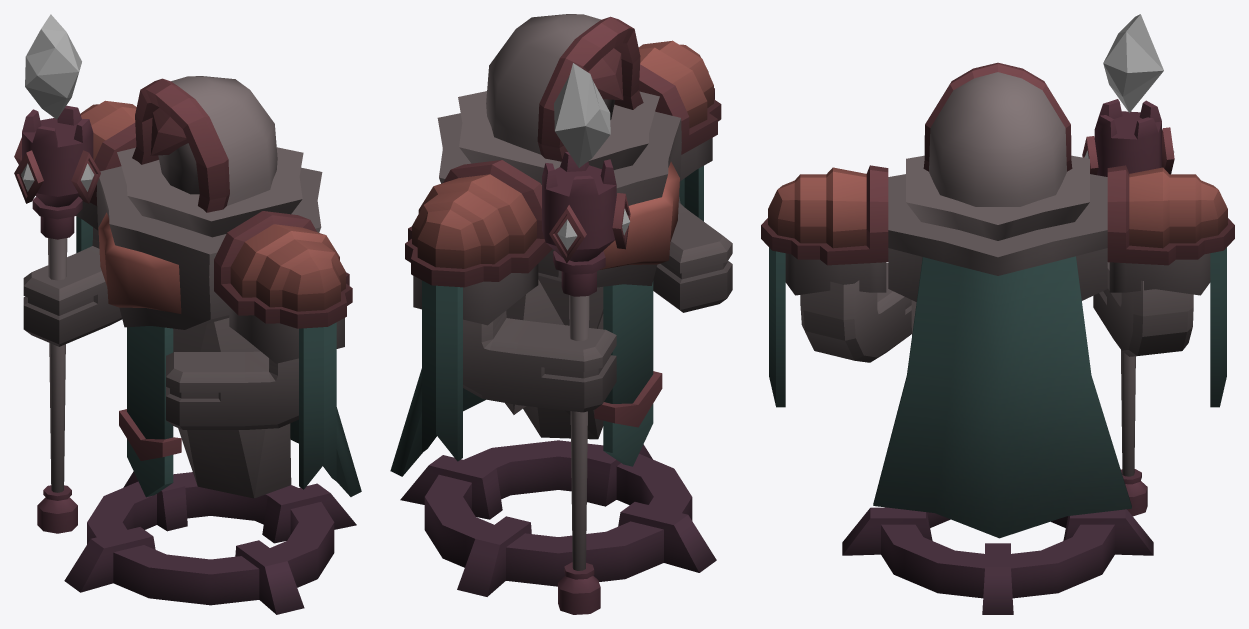
File: SM_Statue.fbx
3 renders of one model, left to right at view 1: azimuth 30°, elevation 25°; view 2: azimuth 150°, elevation 25°; view 3: azimuth 270°, elevation 25°, orthographic. The views are drawn at different scales.
Parts seen in each view (by area): view 1: Statue; view 2: Statue; view 3: Statue.
Part boxes in pixels (bbox=[...]): Statue: bbox=[14, 14, 361, 614]; Statue: bbox=[390, 14, 732, 614]; Statue: bbox=[761, 14, 1234, 614].
Bounding box in the file's own units: 106 × 186 × 162.
Materials: 2 (1 with a texture image).
